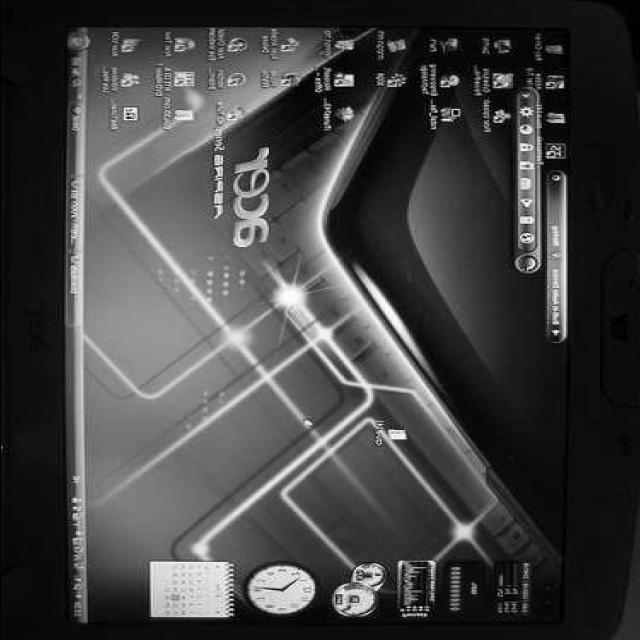laptop: (0, 0, 610, 630)
